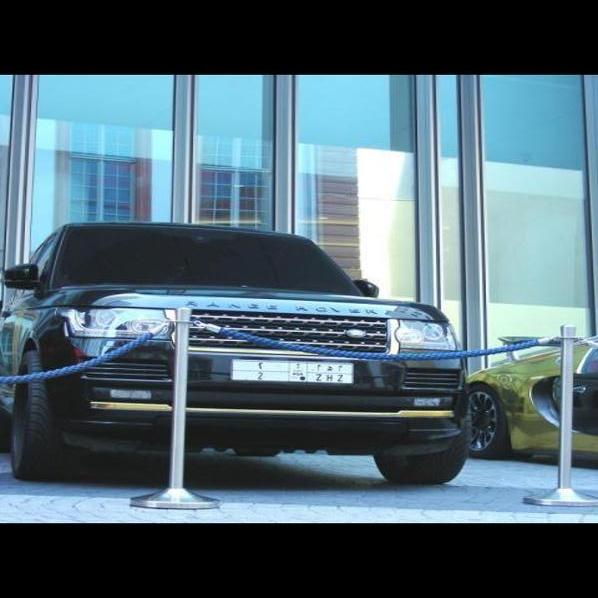numberplate: (232, 359, 354, 383)
